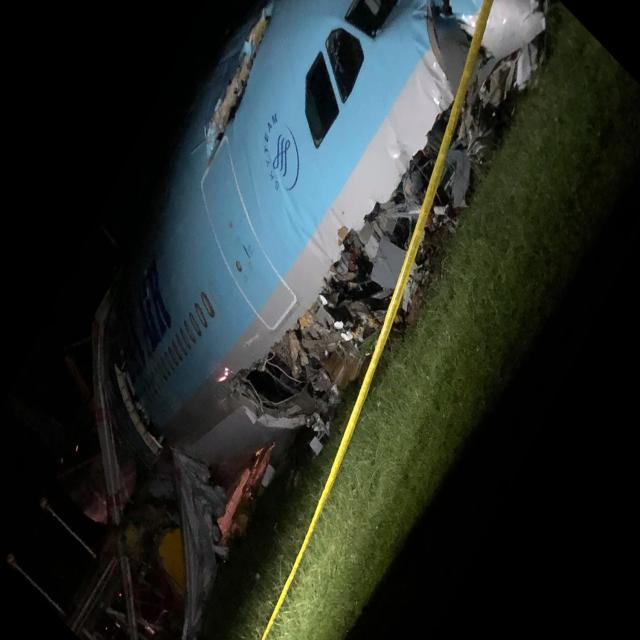crack: (208, 7, 280, 177)
